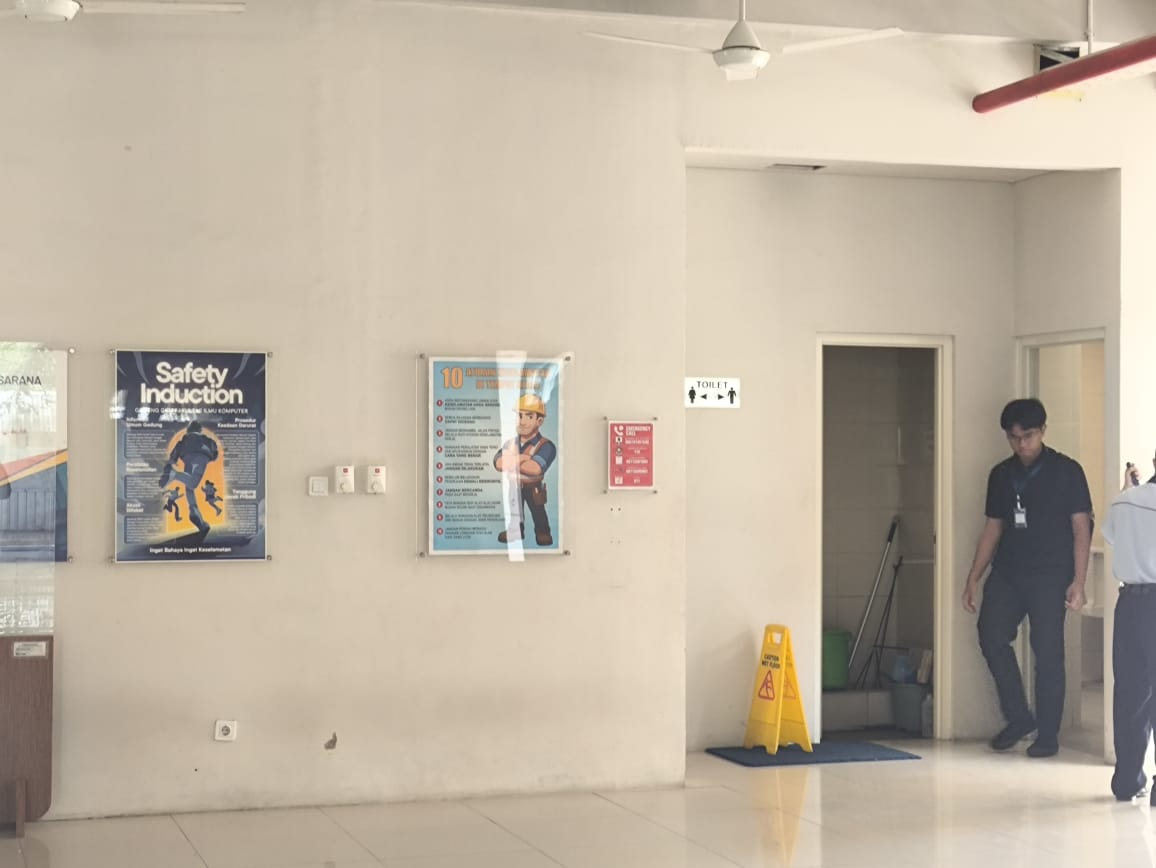toilet: (676, 374, 747, 410)
